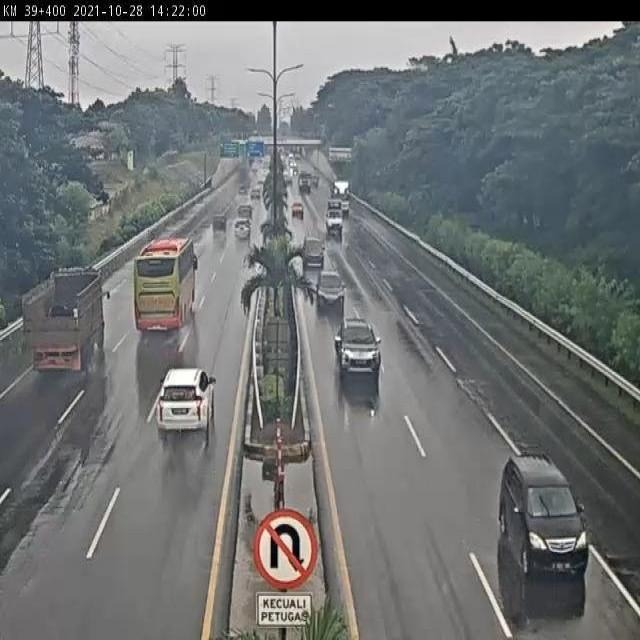big bus: (135, 236, 201, 329)
car: (498, 453, 591, 576), (155, 367, 218, 437), (335, 317, 380, 379), (315, 266, 346, 310), (302, 236, 326, 269), (211, 211, 228, 236)
truck-l-: (23, 268, 105, 372)
